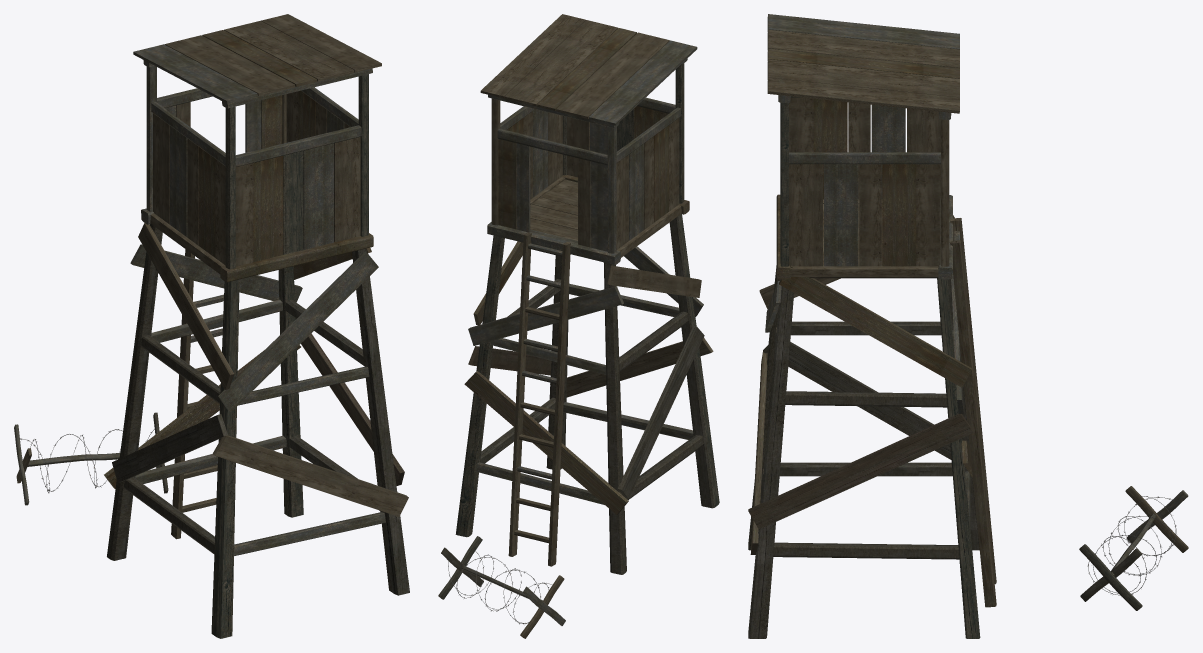
Rendered from vyshka.FBX.
3 renders of one model, left to right at view 1: azimuth 30°, elevation 25°; view 2: azimuth 150°, elevation 25°; view 3: azimuth 270°, elevation 25°, orthographic. The views are drawn at different scales.
Parts seen in each view (by area): view 1: obj143, obj144, obj140, obj145, obj135, obj95, obj97, obj136, obj146, obj103, obj101, obj139 (+39 smaller); view 2: obj143, obj145, obj146, obj141, obj103, obj101, obj100, obj123, obj139, obj124, obj137, obj104 (+45 smaller); view 3: obj142, obj144, obj138, obj124, obj146, obj101, obj103, obj90, obj91, obj94, obj104, obj100 (+23 smaller).
Boxes of the visible parts, x1,y1,x2,y2 form: obj143: (211,279,239,638); obj144: (352,248,409,595); obj140: (212,435,408,516); obj145: (107,224,162,560); obj135: (218,251,378,412); obj95: (303,143,333,249); obj97: (253,156,283,262); obj136: (138,223,234,389); obj146: (278,266,303,517); obj103: (224,20,354,81); obj101: (164,35,295,95); obj139: (112,414,227,482); obj143: (669,214,719,508); obj145: (604,262,626,574); obj146: (455,235,504,537); obj141: (464,371,628,514); obj103: (504,20,618,106); obj101: (556,32,669,118); obj100: (589,40,697,125); obj123: (548,242,570,566); obj139: (618,326,704,498); obj124: (508,232,531,556); obj137: (468,286,623,345); obj104: (480,14,585,98); obj142: (748,414,973,529); obj144: (748,286,793,638); obj138: (779,265,971,387); obj124: (950,240,996,607); obj146: (937,278,980,638); obj101: (767,29,959,68); obj103: (767,59,959,97); obj90: (882,164,916,266); obj91: (824,164,858,266); obj94: (789,164,822,266); obj104: (767,77,959,113); obj100: (767,14,959,49).
Bounding box in the file's own units: 1.08 × 2.73 × 2.02.
